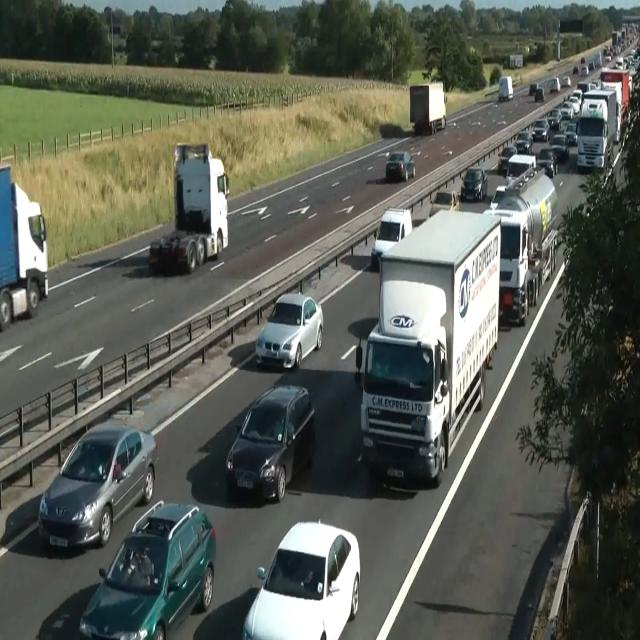bus: (78, 500, 216, 639), (38, 422, 158, 550), (242, 518, 360, 639), (255, 292, 323, 369), (460, 166, 488, 201), (385, 150, 415, 182), (428, 189, 459, 218), (490, 184, 520, 211), (536, 148, 558, 178), (498, 146, 518, 175), (550, 133, 569, 161), (513, 130, 533, 154), (530, 119, 550, 141), (545, 108, 561, 130), (564, 122, 578, 145), (560, 100, 574, 120), (568, 95, 580, 115), (549, 76, 561, 92), (534, 86, 544, 102), (561, 76, 571, 87), (579, 65, 589, 75), (530, 82, 538, 94)
jeep: (225, 382, 315, 502), (370, 207, 412, 268)
minibus: (355, 208, 501, 486), (148, 142, 230, 276), (0, 161, 48, 331), (490, 166, 558, 284), (482, 209, 538, 325), (576, 88, 618, 172), (600, 68, 630, 142), (409, 81, 446, 135), (498, 76, 513, 102), (509, 54, 523, 68)
